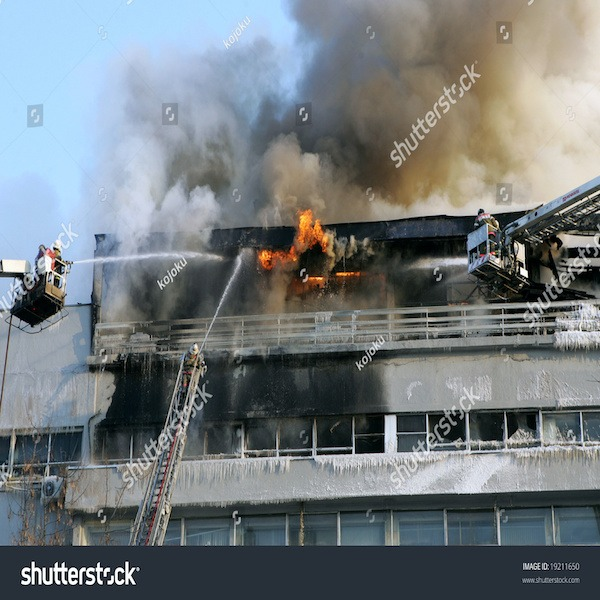fire: (258, 194, 371, 282)
